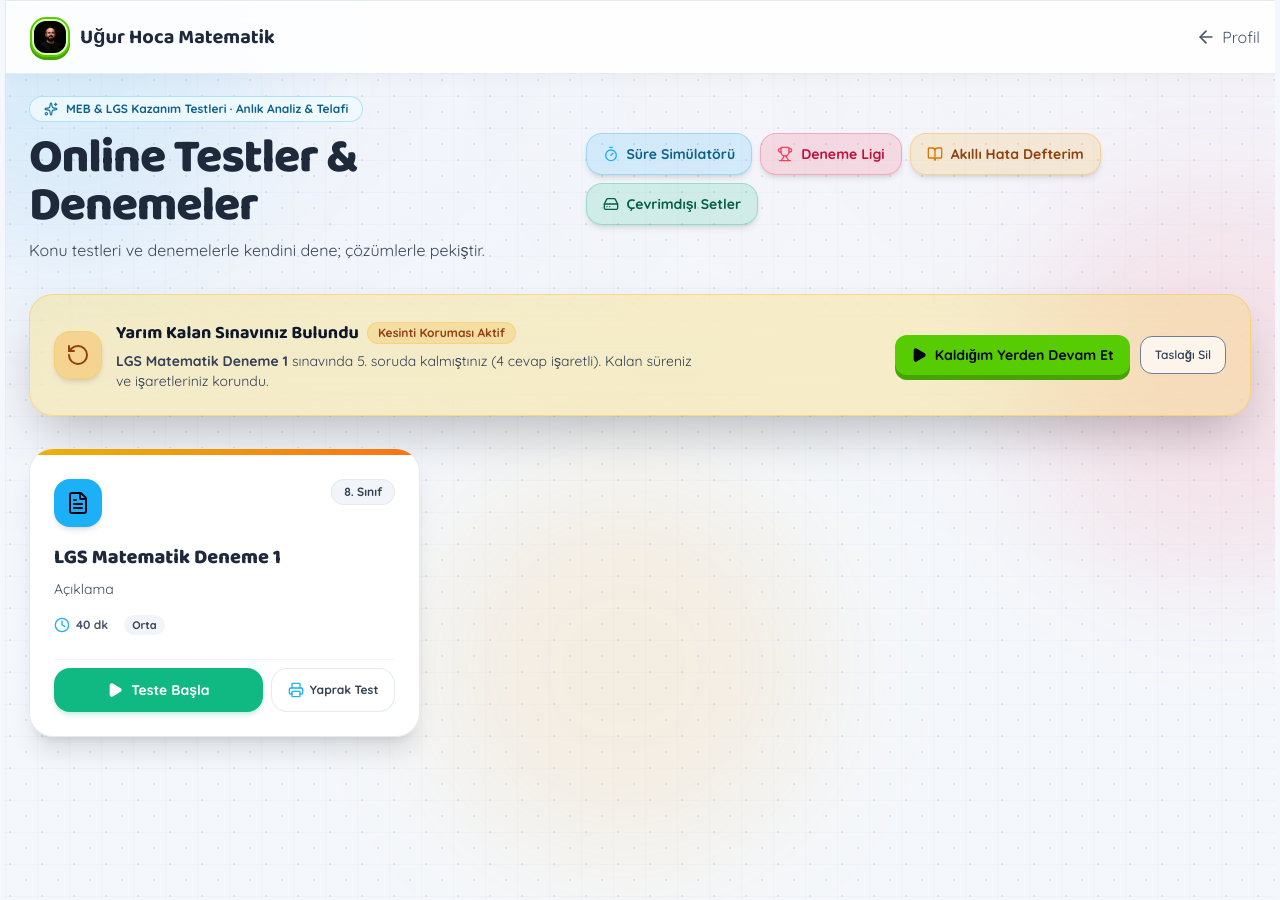
Test: TestsPage State Recovery (Kesinti Koruması) › renders recovery banner when active draft exists and allows resuming or discarding
The image size is (1280, 900).
Expected: the heading "Yarım Kalan Sınavınız Bulundu" is shown, [116, 319, 359, 347]
Expected: the text "Kesinti Koruması Aktif" is shown, [367, 322, 516, 344]
// "Taslağı Sil" tıklandığında taslak temizlenmeli
Step 1. Click the button "Taslağı Sil" → click(1183, 355), box [1140, 336, 1226, 374]
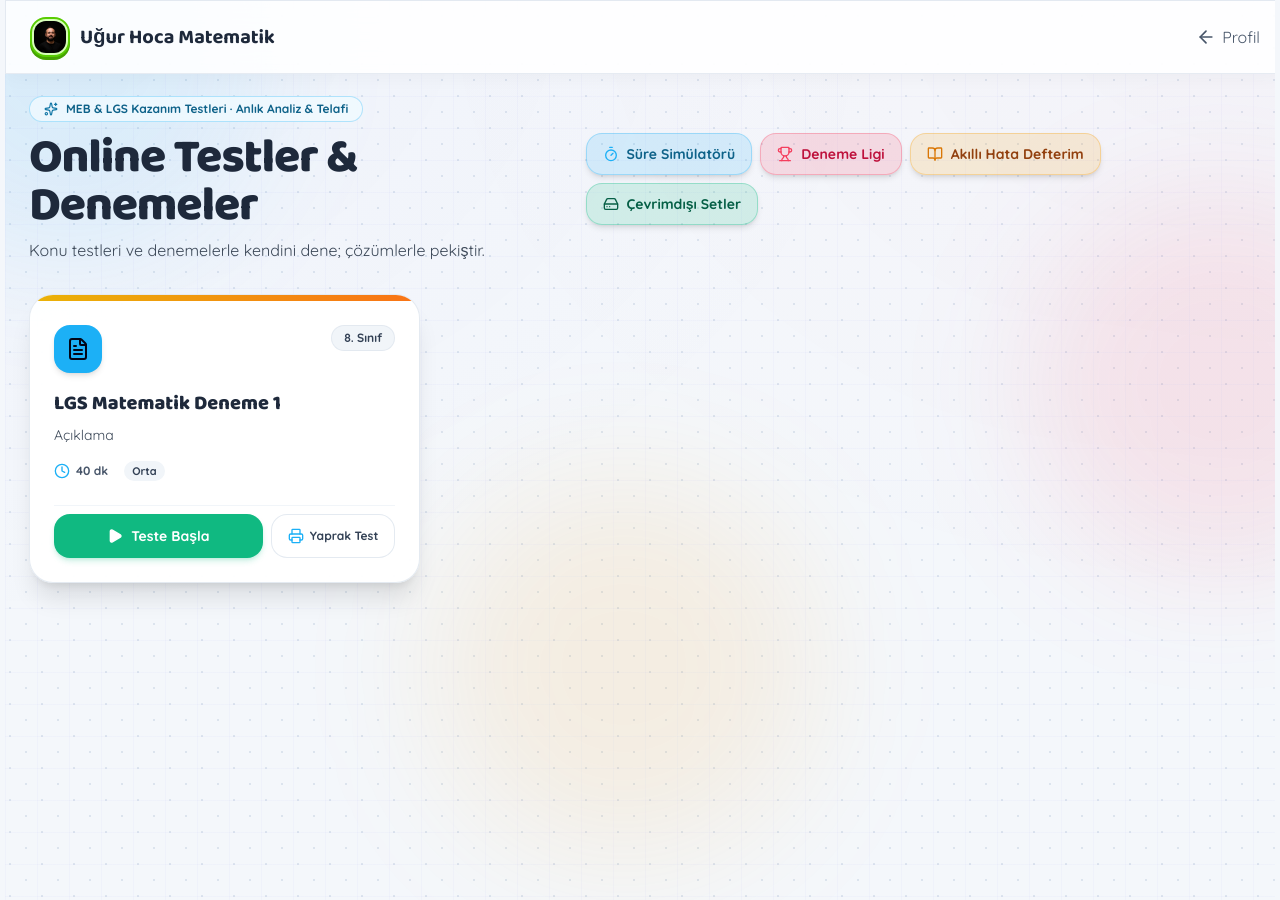
Expected: the heading "Yarım Kalan Sınavınız Bulundu" is gone
